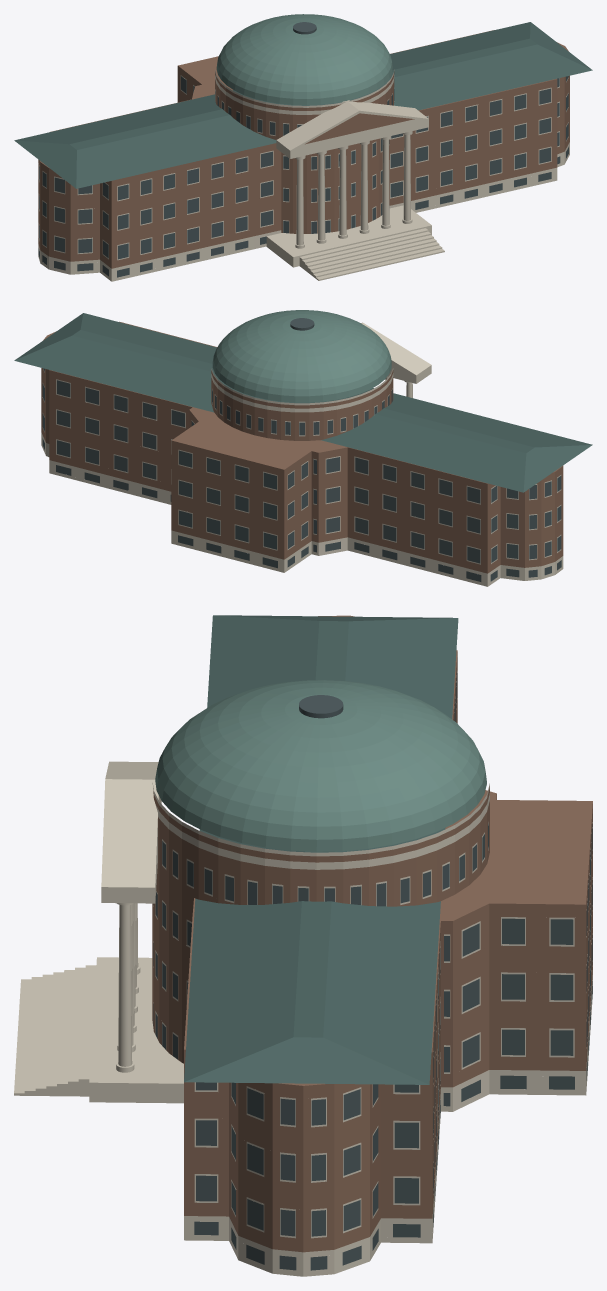
File: dallas-hall-smu-near.glb
The picture shows the model from 3 angles, top to bottom: view 1: azimuth 30°, elevation 25°; view 2: azimuth 150°, elevation 25°; view 3: azimuth 270°, elevation 25°; orthographic projection. The views are drawn at different scales.
Visible parts, largest first — view 1: dallas-hall-smu-0-brick, dallas-hall-smu-0-stone, dallas-hall-smu-0-roof, dallas-hall-smu-0-copper, dallas-hall-smu-0-glass; view 2: dallas-hall-smu-0-brick, dallas-hall-smu-0-roof, dallas-hall-smu-0-glass, dallas-hall-smu-0-stone, dallas-hall-smu-0-copper; view 3: dallas-hall-smu-0-brick, dallas-hall-smu-0-roof, dallas-hall-smu-0-stone, dallas-hall-smu-0-copper, dallas-hall-smu-0-glass.
Boxes of the visible parts, box(x1,y1,x2,y2) form: dallas-hall-smu-0-brick: box(38, 30, 569, 268); dallas-hall-smu-0-stone: box(38, 69, 569, 281); dallas-hall-smu-0-roof: box(14, 22, 592, 188); dallas-hall-smu-0-copper: box(216, 14, 392, 105); dallas-hall-smu-0-glass: box(38, 22, 568, 277); dallas-hall-smu-0-brick: box(41, 321, 563, 573); dallas-hall-smu-0-roof: box(14, 313, 592, 492); dallas-hall-smu-0-glass: box(42, 318, 561, 581); dallas-hall-smu-0-stone: box(41, 322, 563, 586); dallas-hall-smu-0-copper: box(212, 310, 391, 402); dallas-hall-smu-0-brick: box(152, 615, 592, 1252); dallas-hall-smu-0-roof: box(184, 615, 458, 1084); dallas-hall-smu-0-stone: box(14, 671, 592, 1276); dallas-hall-smu-0-copper: box(155, 680, 486, 851); dallas-hall-smu-0-glass: box(153, 673, 592, 1270).
Size of the model in its own units: 82.52 by 27.6 by 42.89.
